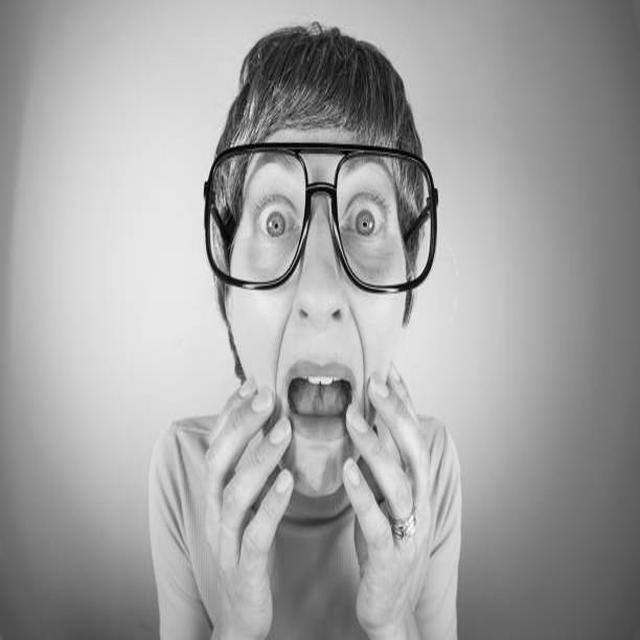Fear: (229, 128, 407, 497)
